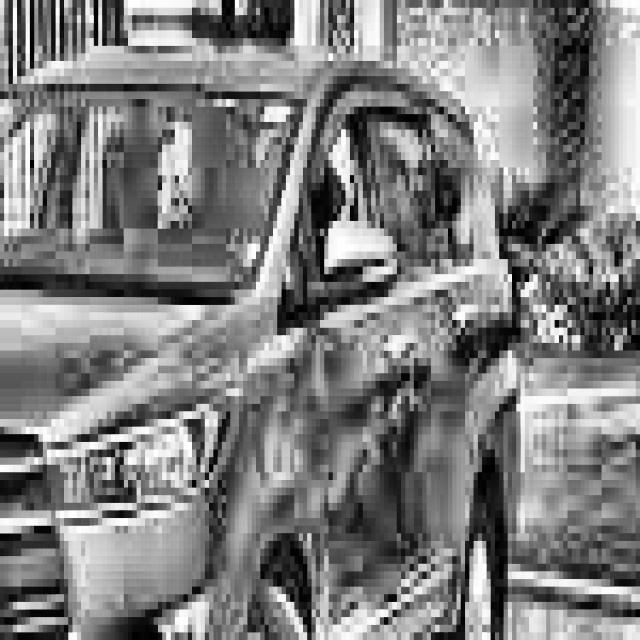light_vehicle: (0, 45, 516, 640)
